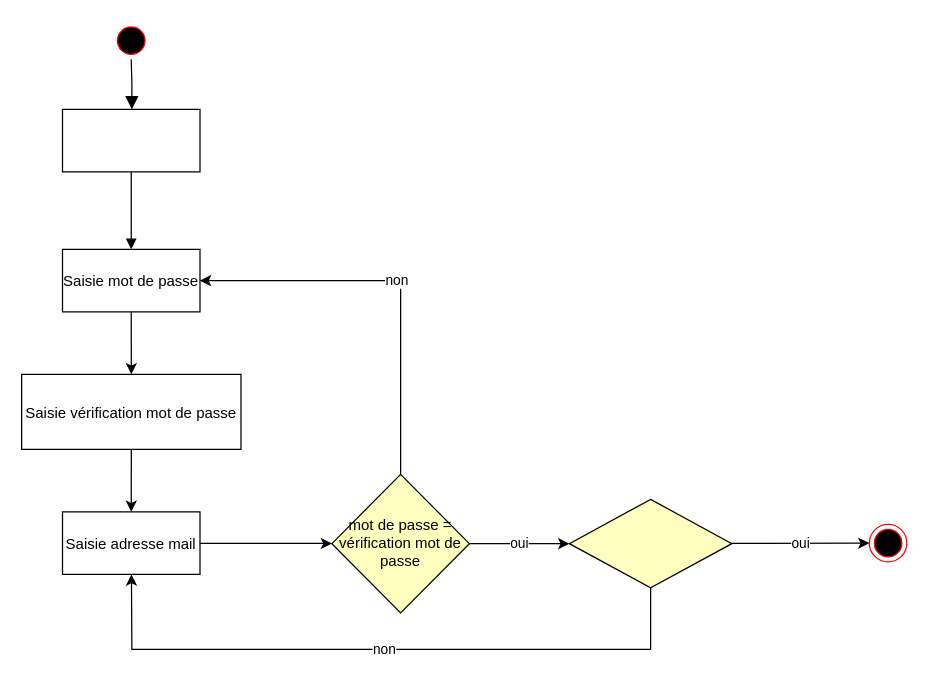
Image size: 930x681. Some labels were removed from this diagram. The centre of each missing label's shape, as x and y in pixels:
"adresse mail valide" belongs at point 650,543.
"Saisie indentifiant" belongs at point 130,140.
